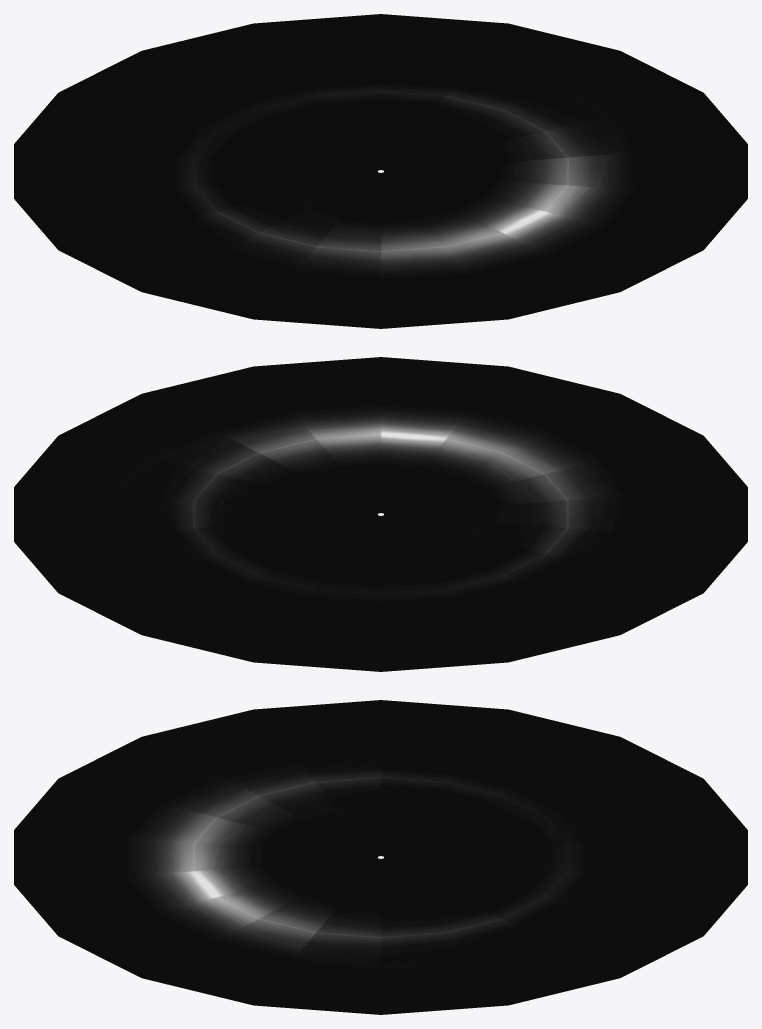
File: 0450_try_m.glb
3 views of the same model, one above another, from view 1: azimuth 30°, elevation 25°; view 2: azimuth 150°, elevation 25°; view 3: azimuth 270°, elevation 25° (orthographic).
Size of the model in its own units: 2.2 by 1.33e-16 by 2.17.
Materials: 1 (1 with a texture image).
